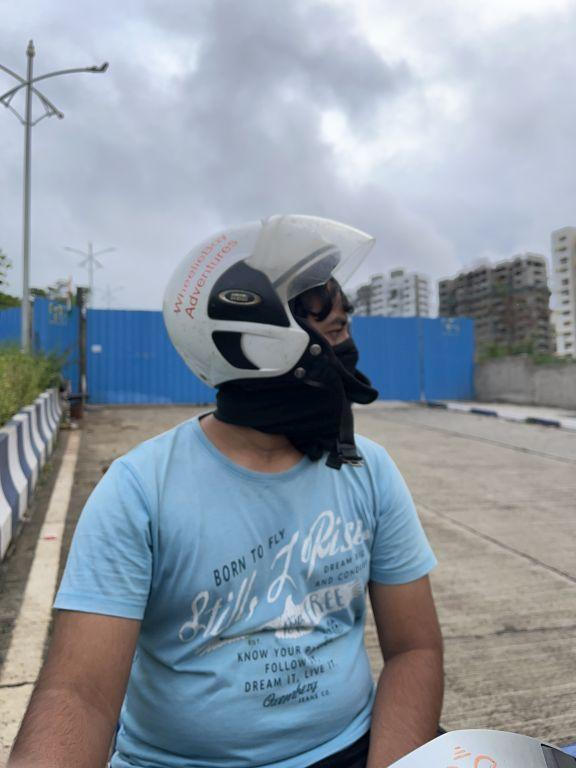helmet: (154, 200, 384, 423)
